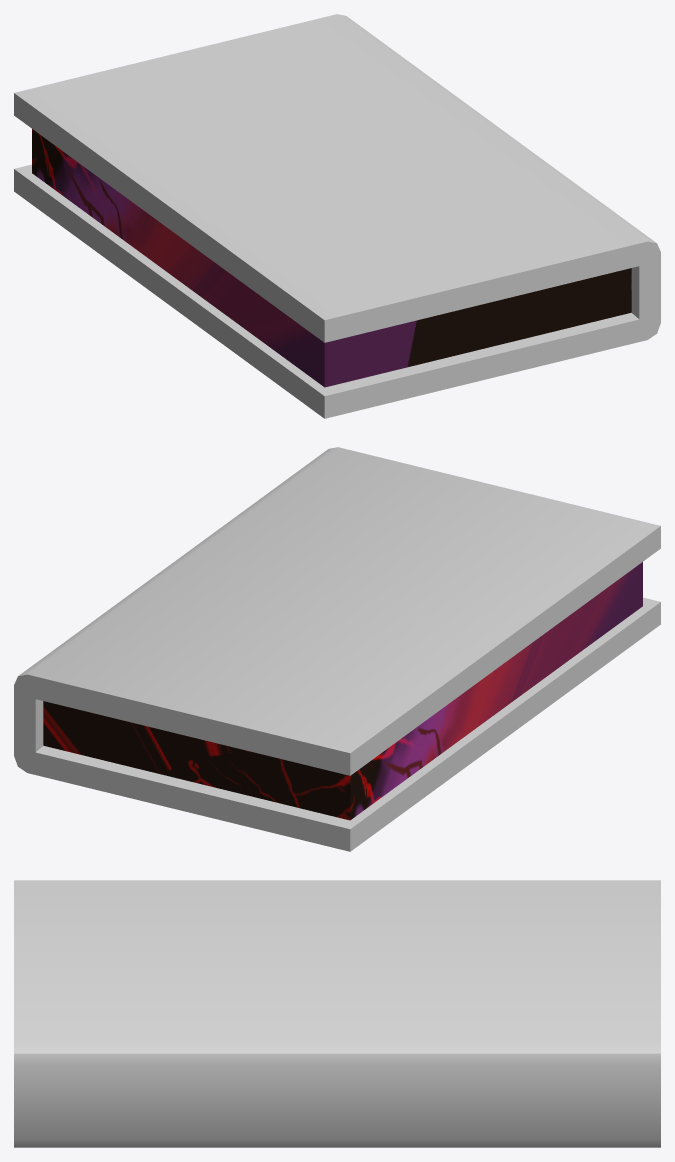
File: Book.fbx
The picture shows the model from 3 angles, top to bottom: view 1: azimuth 30°, elevation 25°; view 2: azimuth 150°, elevation 25°; view 3: azimuth 270°, elevation 25°; orthographic projection. The views are drawn at different scales.
Parts seen in each view (by area): view 1: Book; view 2: Book; view 3: Book.
Part boxes in pixels (box(x1,y1,x2,y2)): Book: box(14, 14, 660, 418); Book: box(14, 447, 660, 851); Book: box(14, 880, 660, 1147).
Size of the model in its own units: 25 by 7 by 40.
